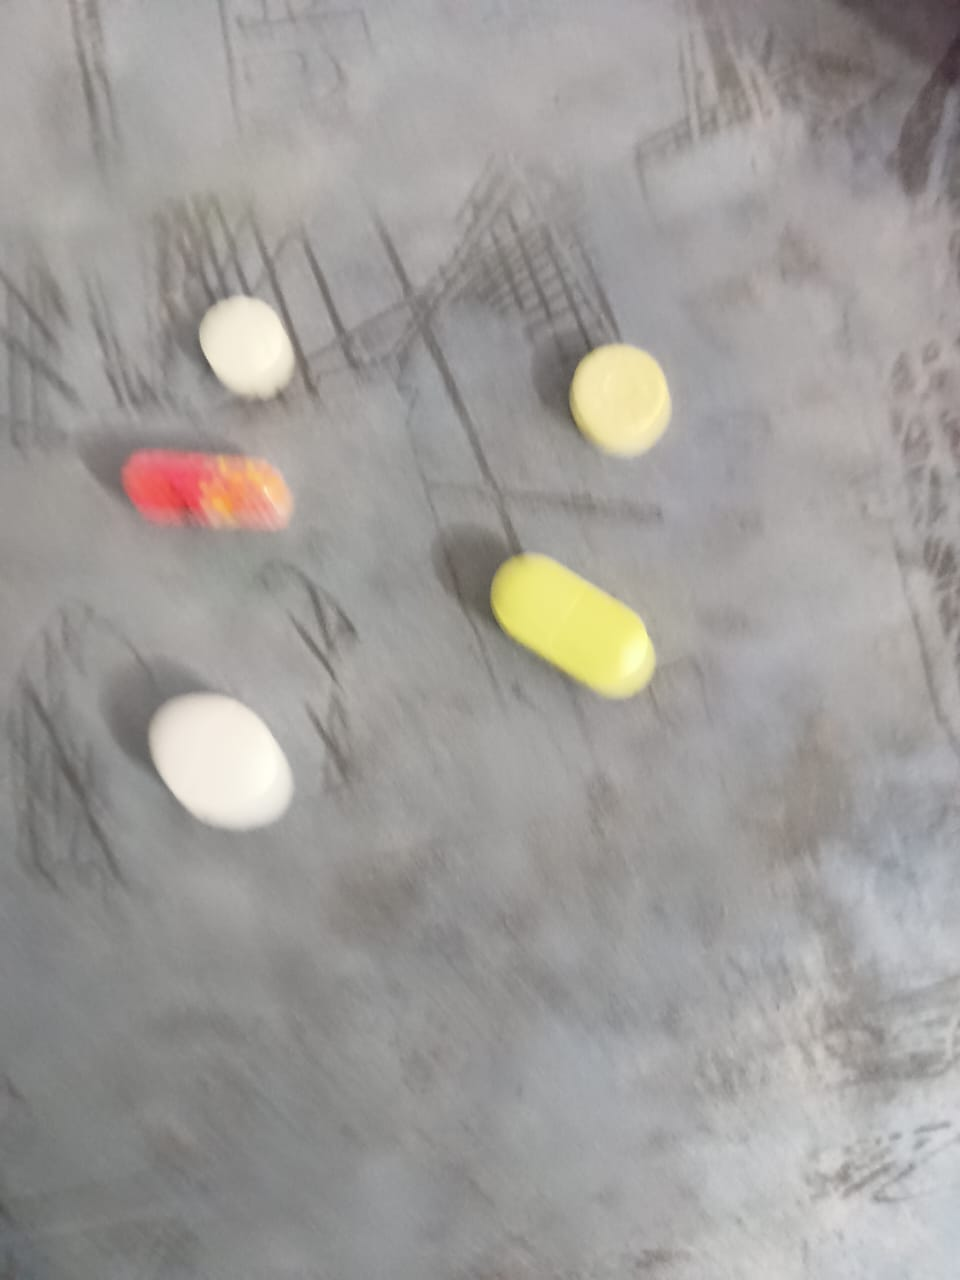Coldact: (118, 424, 319, 549)
Dolo 650: (138, 635, 311, 856)
Meftal SPAS: (558, 304, 678, 481)
Nise: (153, 260, 319, 376)
Norflox TZ: (446, 530, 702, 715)
